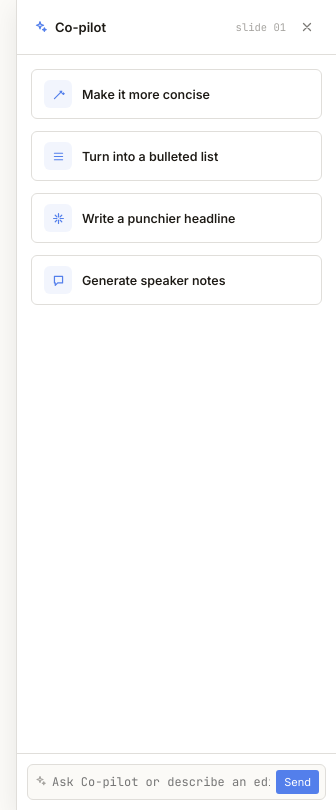
Scenario: DefaultAIDrawer › shows a fallback message when the model returns no usable patch
This screenshot has width=336, height=810.
Type "do something weird" into the field with placeholder "Ask Co-pilot or describe an edit…" at coordinates (161, 782), box [50,765,272,799]
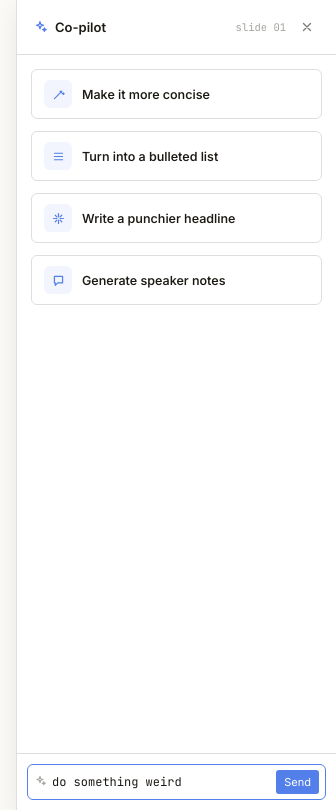
Click the button "Send" at coordinates (298, 782), box [276,770,319,794]
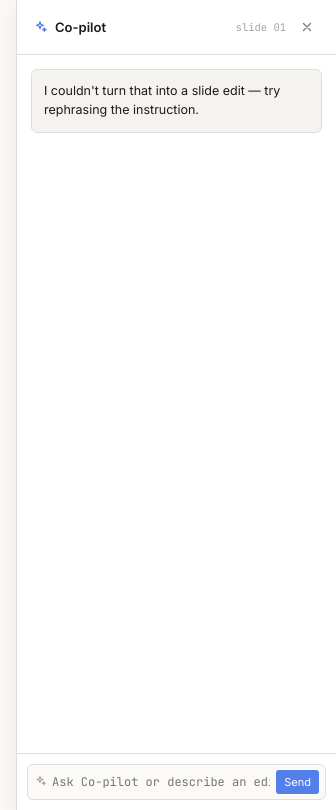
Expected: the text "couldn't turn that into a slide edit" is shown, [44,83,284,117]
